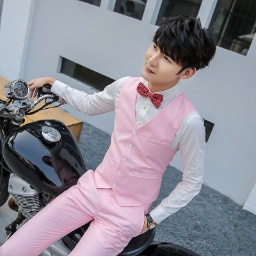face: (138, 20, 216, 87)
